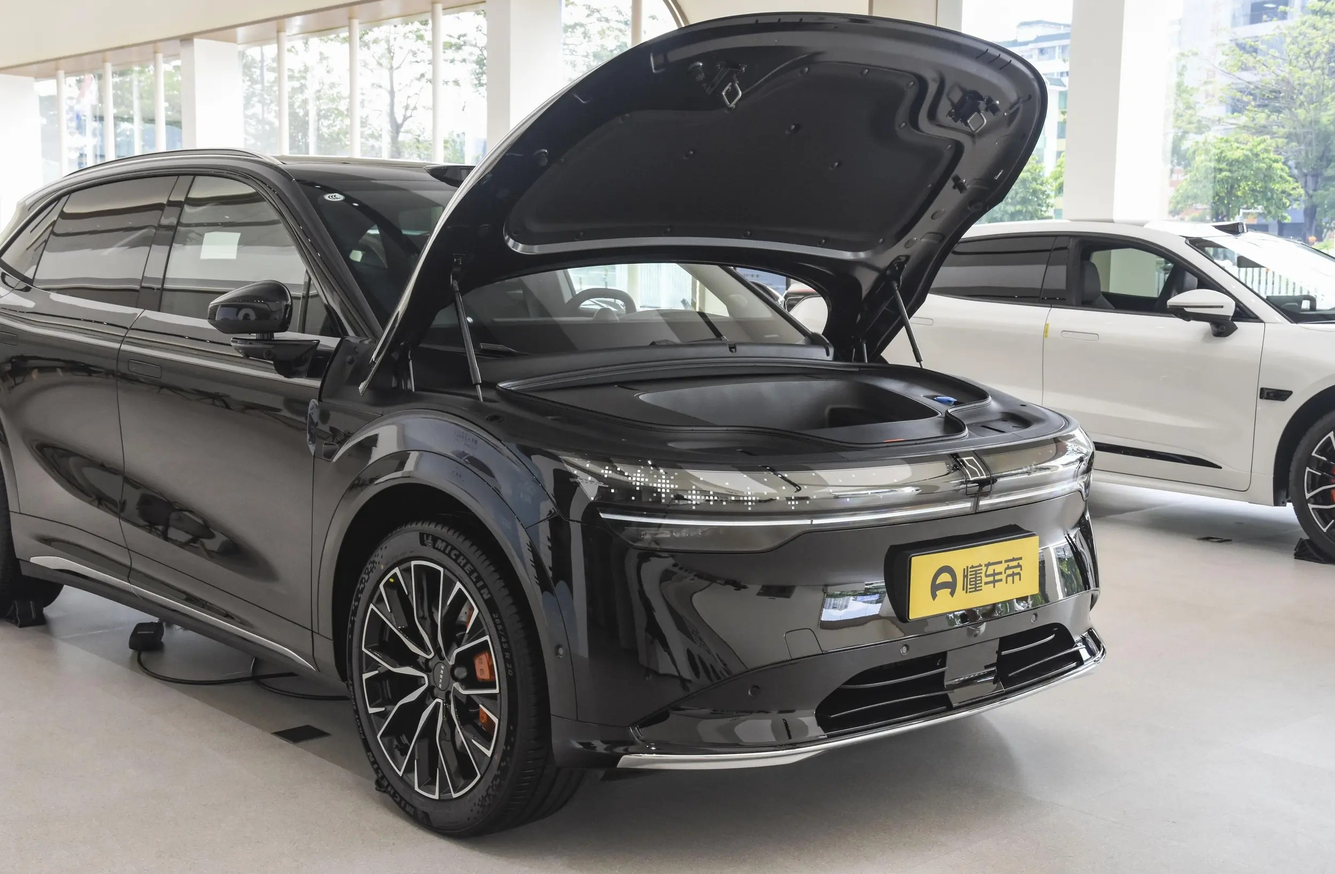ZEEKR: (957, 456, 986, 479)
